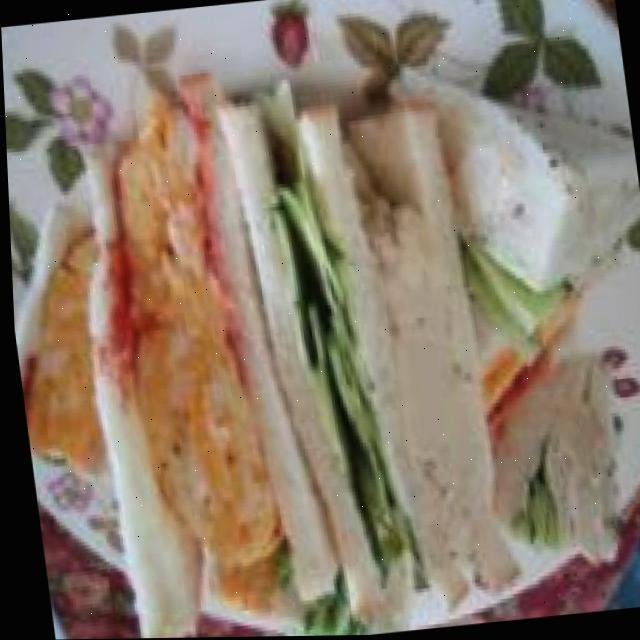三明治: (53, 59, 513, 639)
